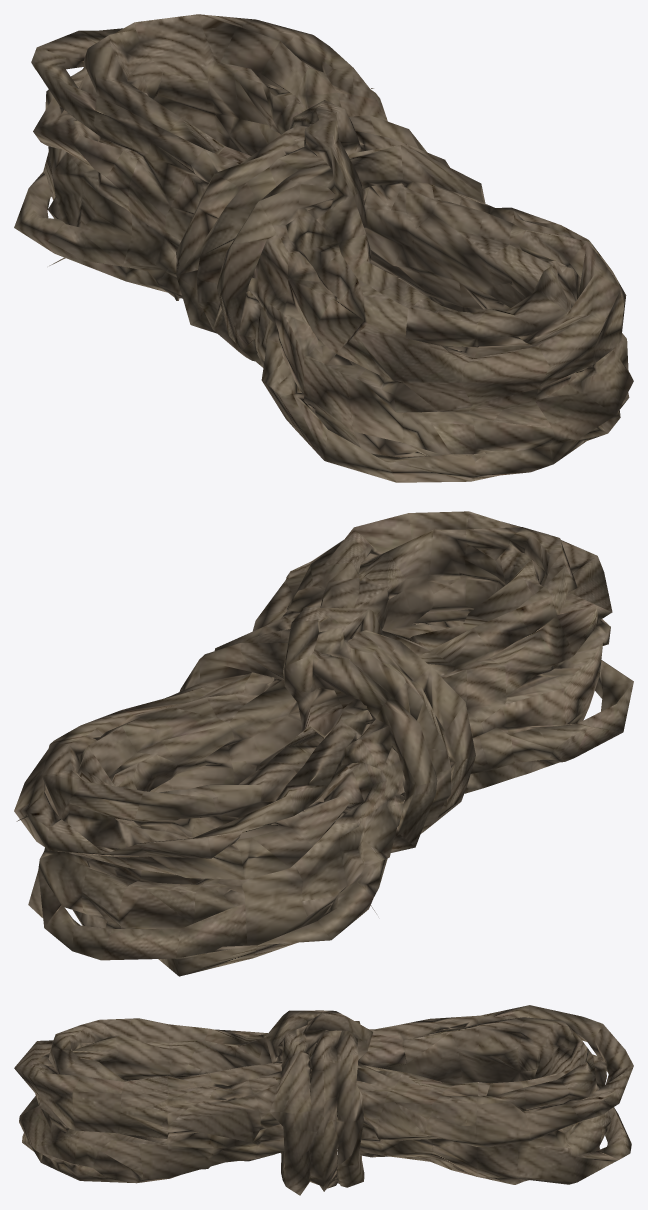
Rendered from rope_pack.0c79721e.glb.
3 renders of one model, top to bottom at view 1: azimuth 30°, elevation 25°; view 2: azimuth 150°, elevation 25°; view 3: azimuth 270°, elevation 25°, orthographic. The views are drawn at different scales.
Parts seen in each view (by area): view 1: item; view 2: item; view 3: item.
Boxes of the visible parts, x1,y1,x2,y2 form: item: [14, 14, 633, 482]; item: [14, 511, 633, 976]; item: [14, 1005, 633, 1195].
Size of the model in its own units: 0.1884 by 0.1355 by 0.4488.
Materials: 1 (1 with a texture image).
